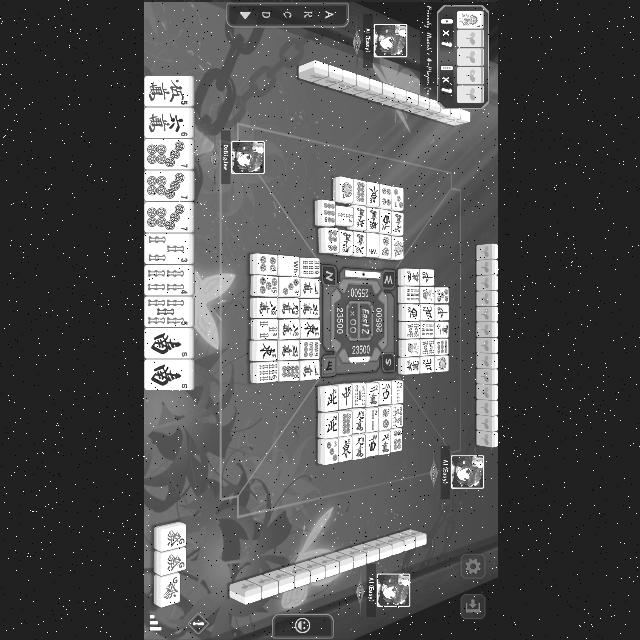1m: (301, 280, 319, 296), (300, 362, 318, 378)
1p: (339, 178, 351, 200), (392, 238, 402, 258), (436, 356, 446, 369)
1s: (458, 11, 480, 29), (404, 340, 420, 356), (421, 288, 434, 302)
2m: (366, 383, 378, 407), (434, 322, 448, 338)
2p: (379, 408, 389, 430), (380, 237, 390, 257)
2s: (366, 409, 378, 431), (336, 208, 352, 224), (392, 382, 402, 403)
3m: (279, 341, 297, 361), (301, 300, 319, 316)
3p: (280, 278, 298, 296), (324, 440, 336, 466), (392, 188, 402, 208)
3s: (146, 235, 188, 263), (256, 320, 276, 338)
4m: (404, 270, 418, 284)
4p: (258, 256, 276, 274), (380, 186, 392, 208)
4s: (146, 266, 188, 294)
5m: (144, 77, 188, 107), (367, 209, 377, 229)
5p: (257, 277, 277, 295), (435, 288, 447, 302)
5s: (145, 298, 187, 326), (354, 384, 364, 406)
6m: (145, 109, 187, 138), (404, 357, 418, 373), (354, 207, 364, 229)
6p: (326, 230, 336, 252), (392, 430, 401, 450)
6s: (257, 362, 277, 383)
7m: (392, 213, 403, 234)
7p: (144, 170, 188, 200), (146, 202, 188, 232), (144, 141, 188, 169)
8m: (280, 320, 298, 338), (257, 300, 277, 316), (378, 432, 390, 454), (354, 233, 364, 254)
8p: (279, 361, 299, 381), (338, 412, 352, 436), (354, 181, 364, 203)
8s: (391, 406, 402, 426), (406, 322, 419, 338), (421, 340, 434, 356)
9m: (280, 298, 298, 318), (352, 435, 364, 459), (352, 410, 364, 432), (340, 232, 350, 254)
9p: (300, 341, 320, 359), (322, 201, 334, 225), (434, 340, 448, 354)
9s: (302, 260, 318, 276), (404, 288, 418, 302), (420, 324, 432, 336)
chun: (340, 386, 350, 408), (434, 306, 448, 320), (421, 270, 434, 284)
haku: (280, 258, 298, 274), (367, 234, 378, 256)
hatsu: (160, 526, 184, 550), (160, 550, 184, 574), (160, 576, 178, 606)
nan: (143, 360, 187, 390), (144, 329, 188, 358)
pe: (324, 386, 336, 412), (324, 414, 336, 438), (421, 305, 434, 319), (421, 358, 433, 372)
sha: (365, 433, 377, 455), (380, 382, 390, 402), (380, 212, 390, 232), (405, 306, 419, 320)
tou: (256, 341, 276, 361), (301, 320, 319, 338), (367, 183, 378, 205), (340, 438, 350, 458)
